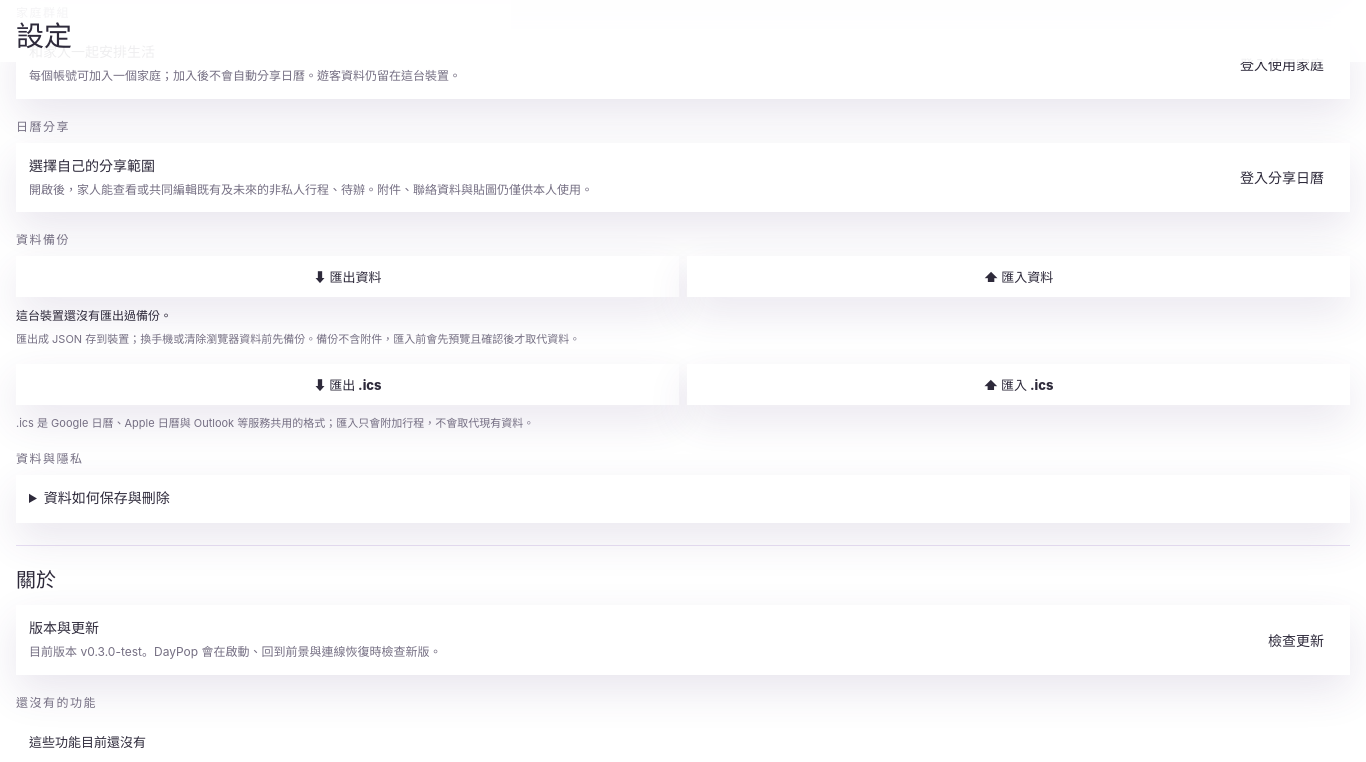
Test: 設定 上次匯出 › does not count an .ics export or a download that failed
The width and height of the screenshot is (1366, 762).
(page scrolled)
Click the button "⬇ 匯出 .ics" at point(348, 384), box top-left (16, 364), bottom-right (679, 405)
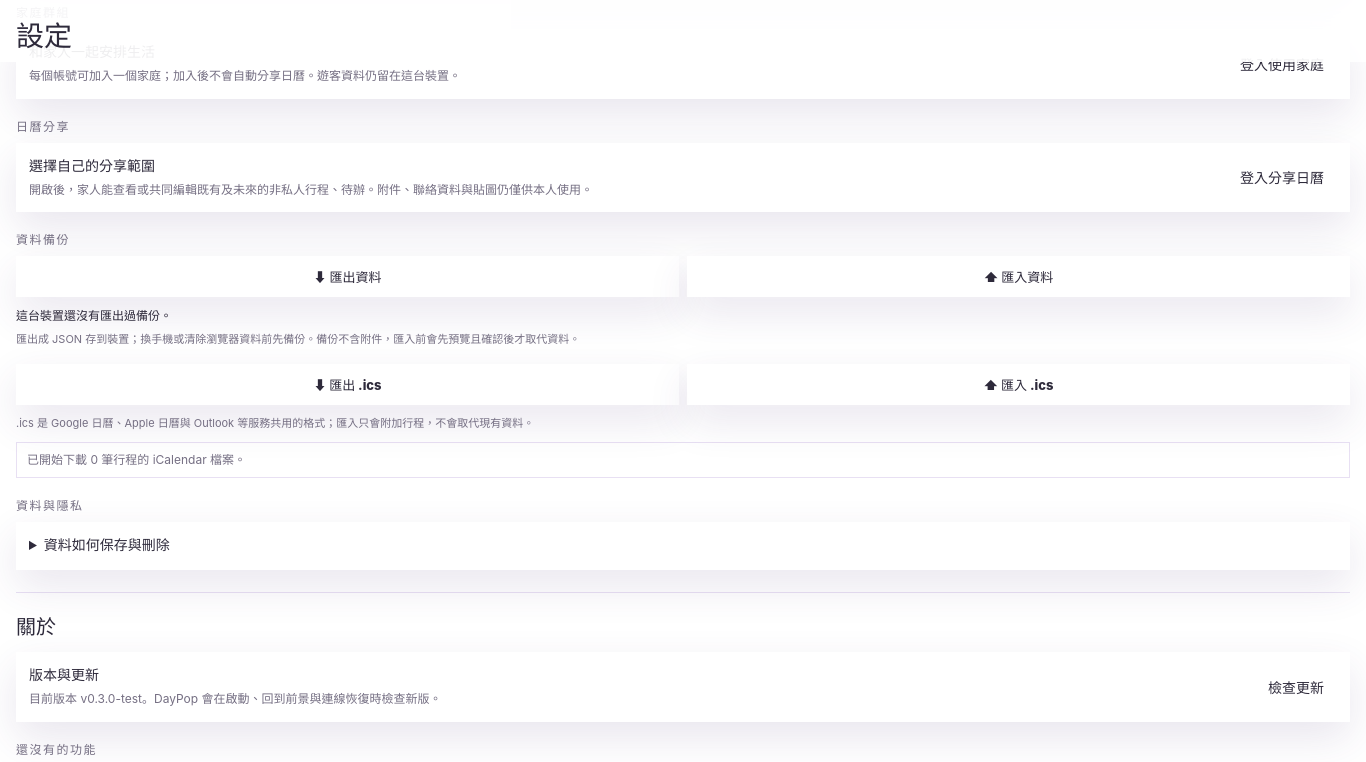
Click the button "⬇ 匯出資料" at point(348, 277), box top-left (16, 256), bottom-right (679, 297)
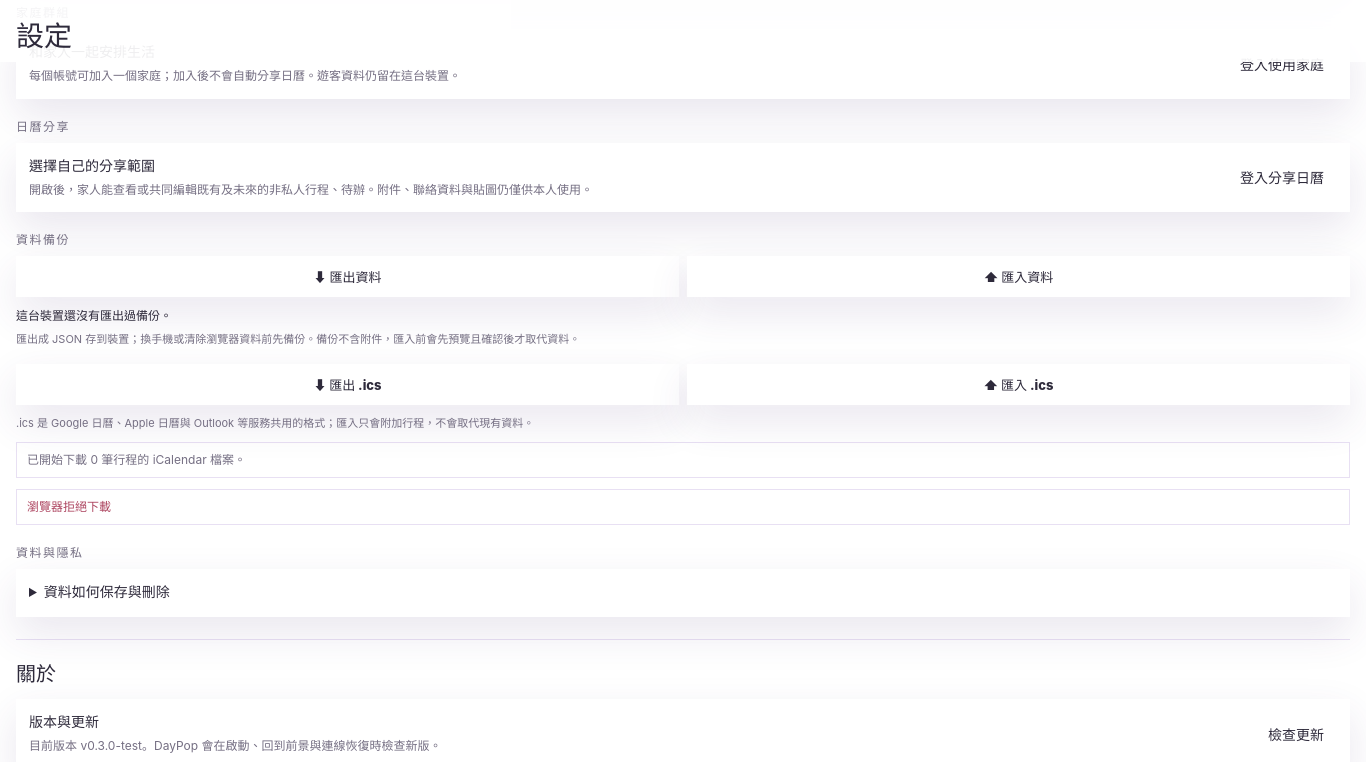
Expected: the text with class "data-backup-last" reads "這台裝置還沒有匯出過備份。", top-left (16, 308), bottom-right (172, 323)
Now the message "瀏覽器拒絕下載" is shown, box top-left (16, 489), bottom-right (1350, 525)
